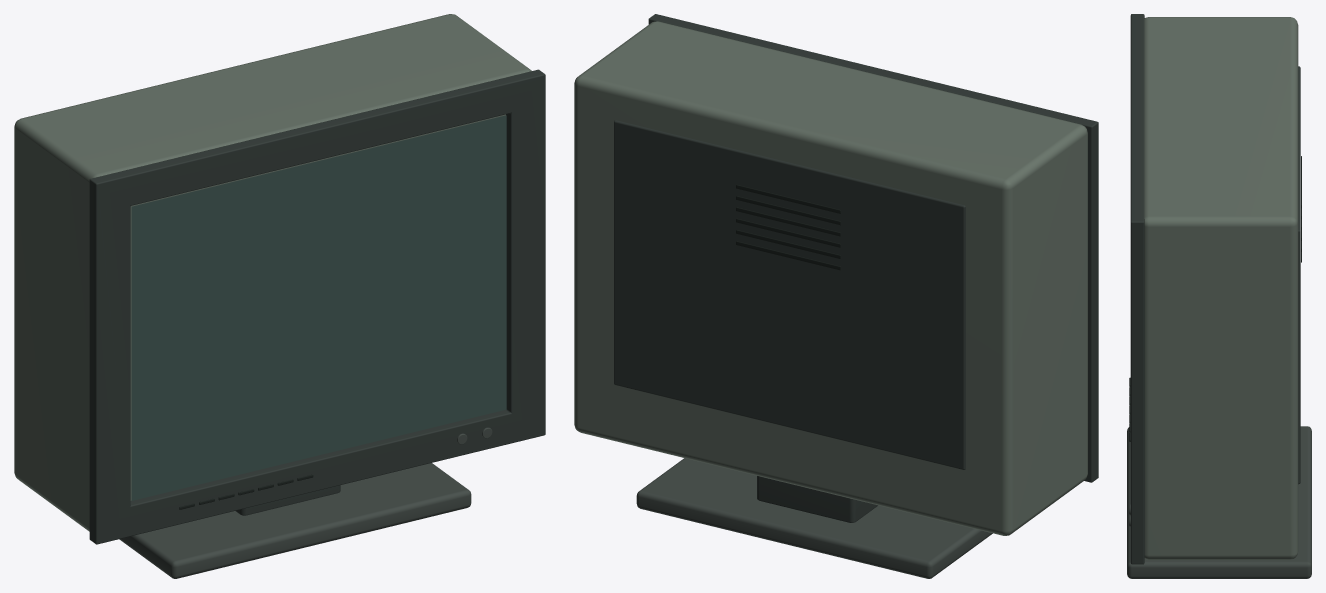
The picture shows the model from 3 angles, left to right: view 1: azimuth 30°, elevation 25°; view 2: azimuth 150°, elevation 25°; view 3: azimuth 270°, elevation 25°; orthographic projection. The views are drawn at different scales.
Visible parts, largest first — view 1: SM_TV_4x3__Body, SM_TV_4x3__Screen; view 2: SM_TV_4x3__Body; view 3: SM_TV_4x3__Body.
Part boxes in pixels (x1,y1,x2,y2): SM_TV_4x3__Body: [14, 14, 545, 578]; SM_TV_4x3__Screen: [131, 115, 506, 500]; SM_TV_4x3__Body: [574, 14, 1098, 578]; SM_TV_4x3__Body: [1127, 14, 1311, 578].
Size of the model in its own units: 1.44 by 1.27 by 0.54.
